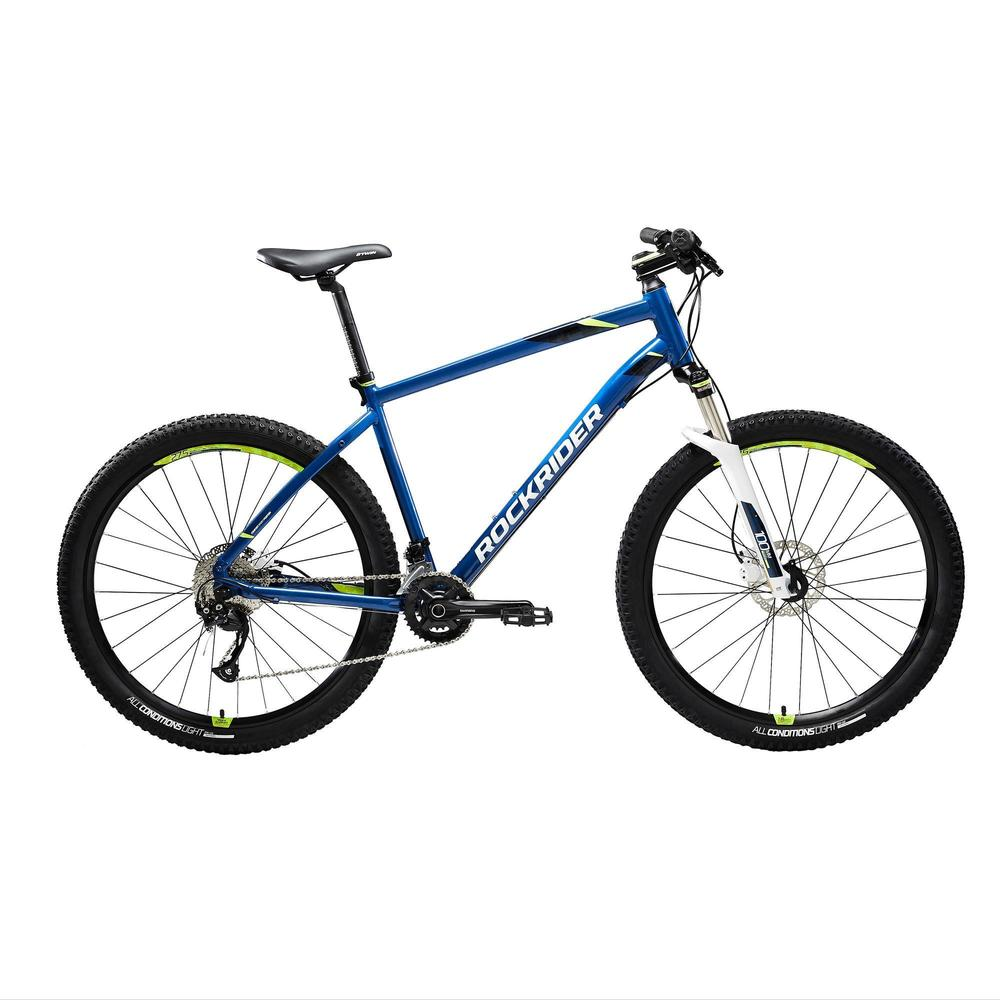MountainBike: (56, 225, 933, 765)
